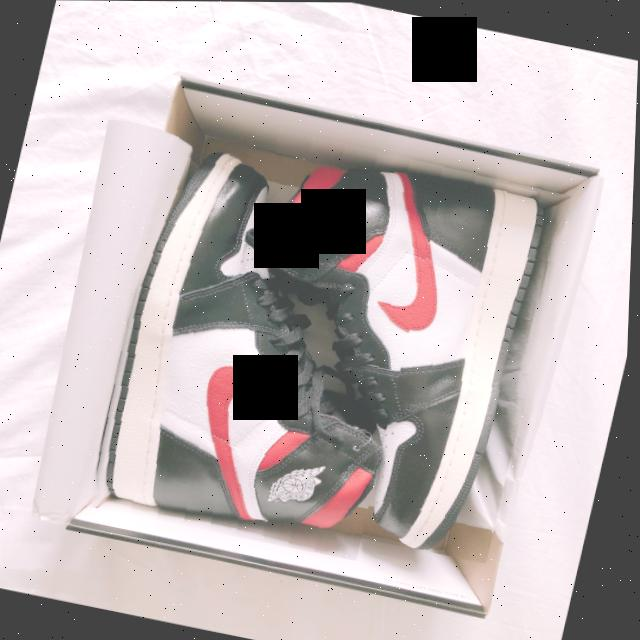shoe: (178, 123, 576, 563), (81, 134, 445, 561)
